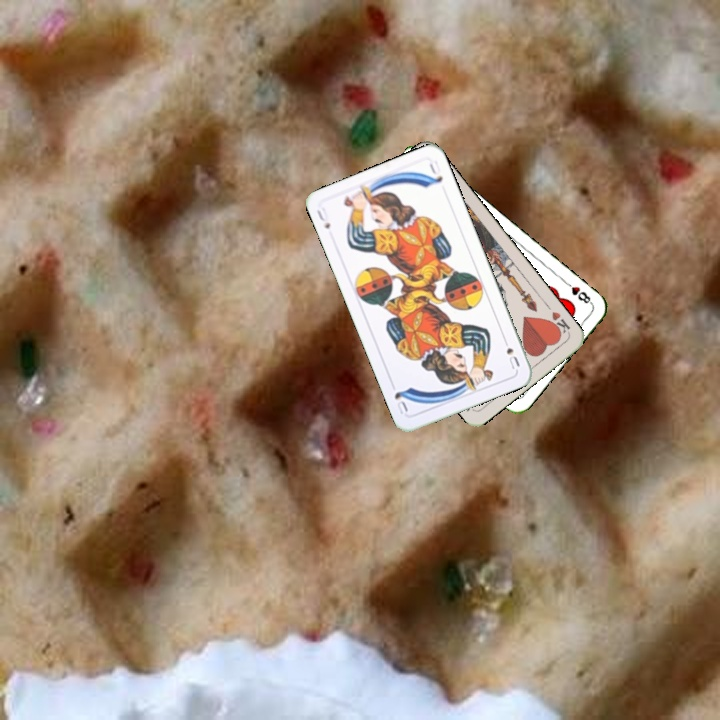H8: (560, 277, 595, 307)
HK: (544, 307, 572, 338)
SU: (499, 333, 522, 372), (313, 203, 333, 232)
